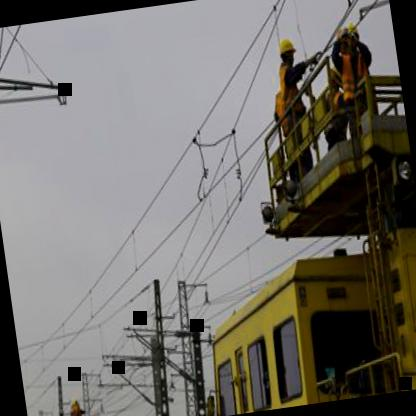helmet: (274, 32, 299, 70)
